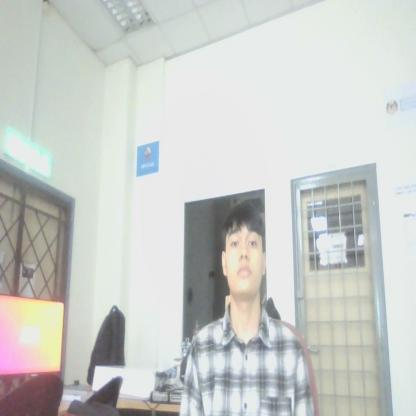Open-Eyes: (232, 230, 260, 254)
